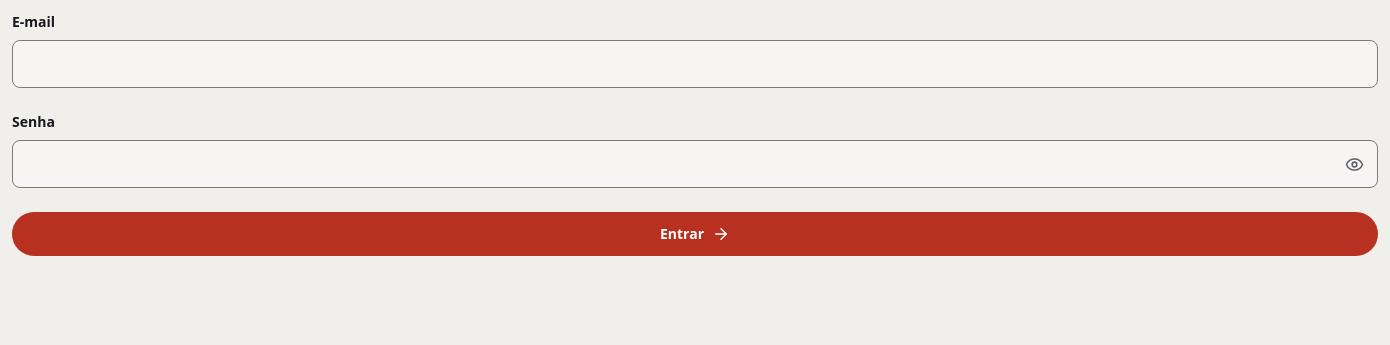
Login form › distinguishes invalid credentials and lets the user correct them
Type "AMANDA@example.test" into the field labelled "E-mail" at (695, 64), box [12, 40, 1378, 88]
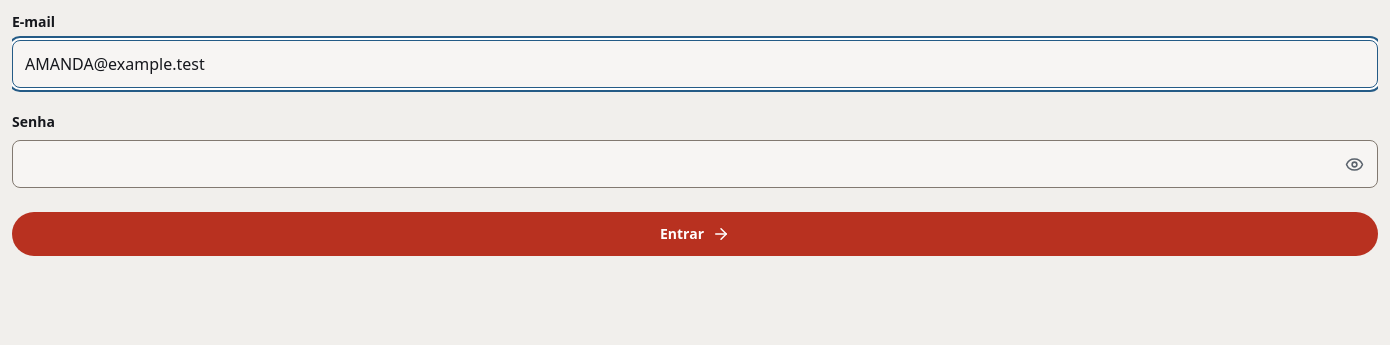
Type "incorrect" into the password field labelled "Senha" at (695, 164), box [12, 140, 1378, 188]
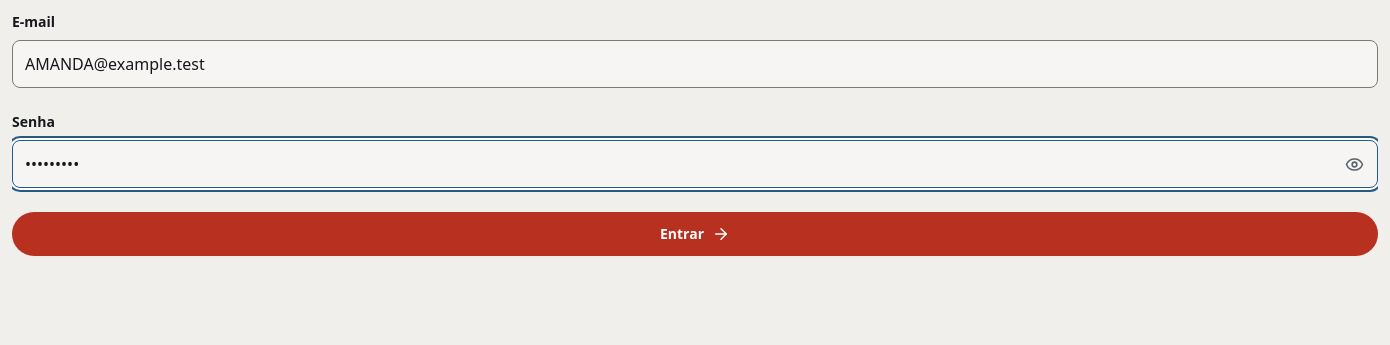
Click the button "Entrar" at (695, 234), box [12, 212, 1378, 256]
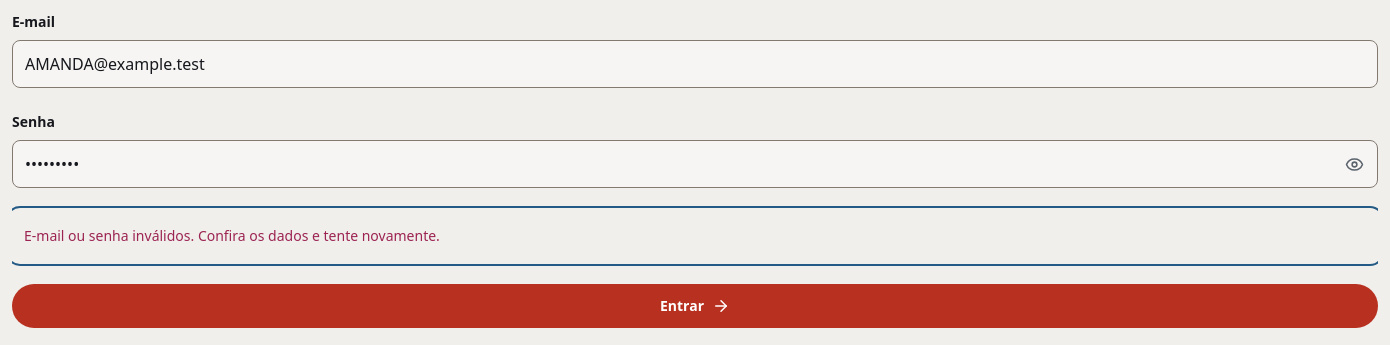
Expected: the message shows "E-mail ou senha inválidos", [24, 226, 440, 245]
